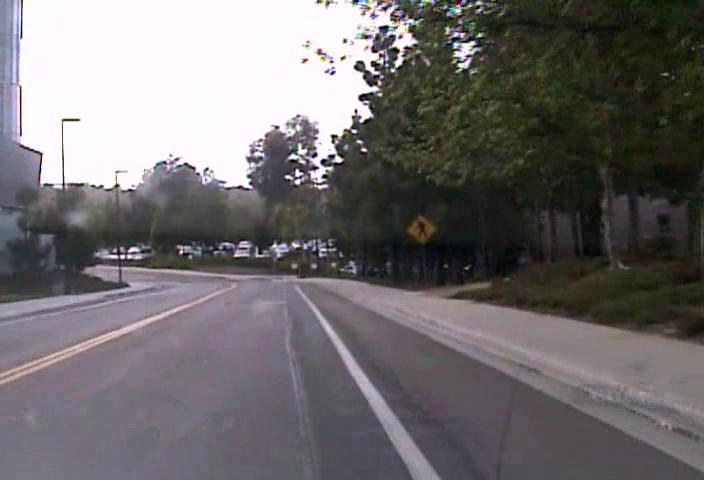pedestrianCrossing: (405, 213, 438, 245)
